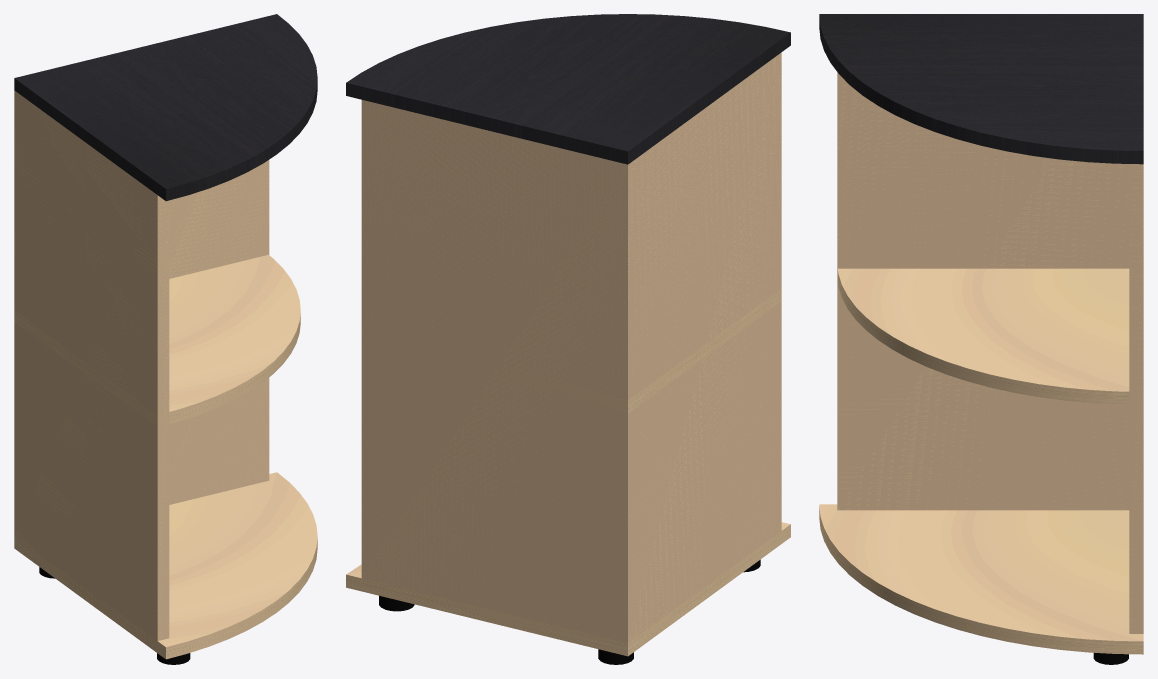
The model's file is angolo80.glb.
The picture shows the model from 3 angles, left to right: view 1: azimuth 30°, elevation 25°; view 2: azimuth 150°, elevation 25°; view 3: azimuth 270°, elevation 25°; orthographic projection. The views are drawn at different scales.
Parts seen in each view (by area): view 1: angolo80W; view 2: angolo80W; view 3: angolo80W.
Part boxes in pixels (x1,y1,x2,y2): angolo80W: (14,14,317,664); angolo80W: (346,14,790,664); angolo80W: (819,14,1143,664).
Size of the model in its own units: 45 by 80 by 45.
3 materials, 2 textured.
